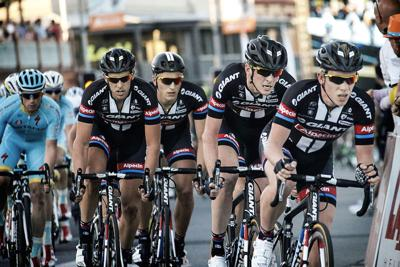With Helmet: (309, 32, 367, 108), (239, 26, 293, 103), (97, 41, 141, 103), (147, 47, 189, 105), (11, 65, 49, 113)
